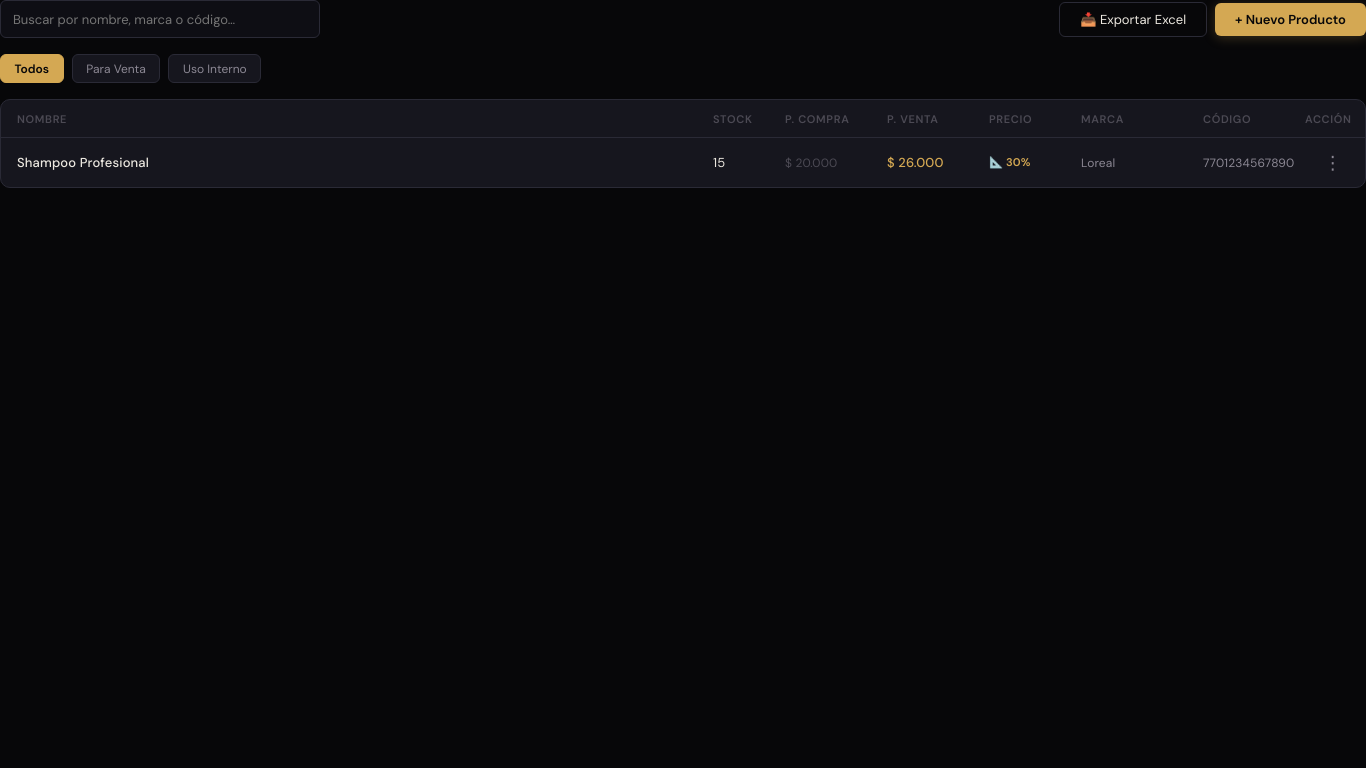
Test: ProductosPage — listado y operaciones › historial: abre el modal y consulta el endpoint de historial de precios
Expected: the text "Shampoo Profesional" is shown, top-left (17, 154), bottom-right (149, 171)
Click the button named "Acciones": (1333, 163) top-left (1316, 150), bottom-right (1349, 175)
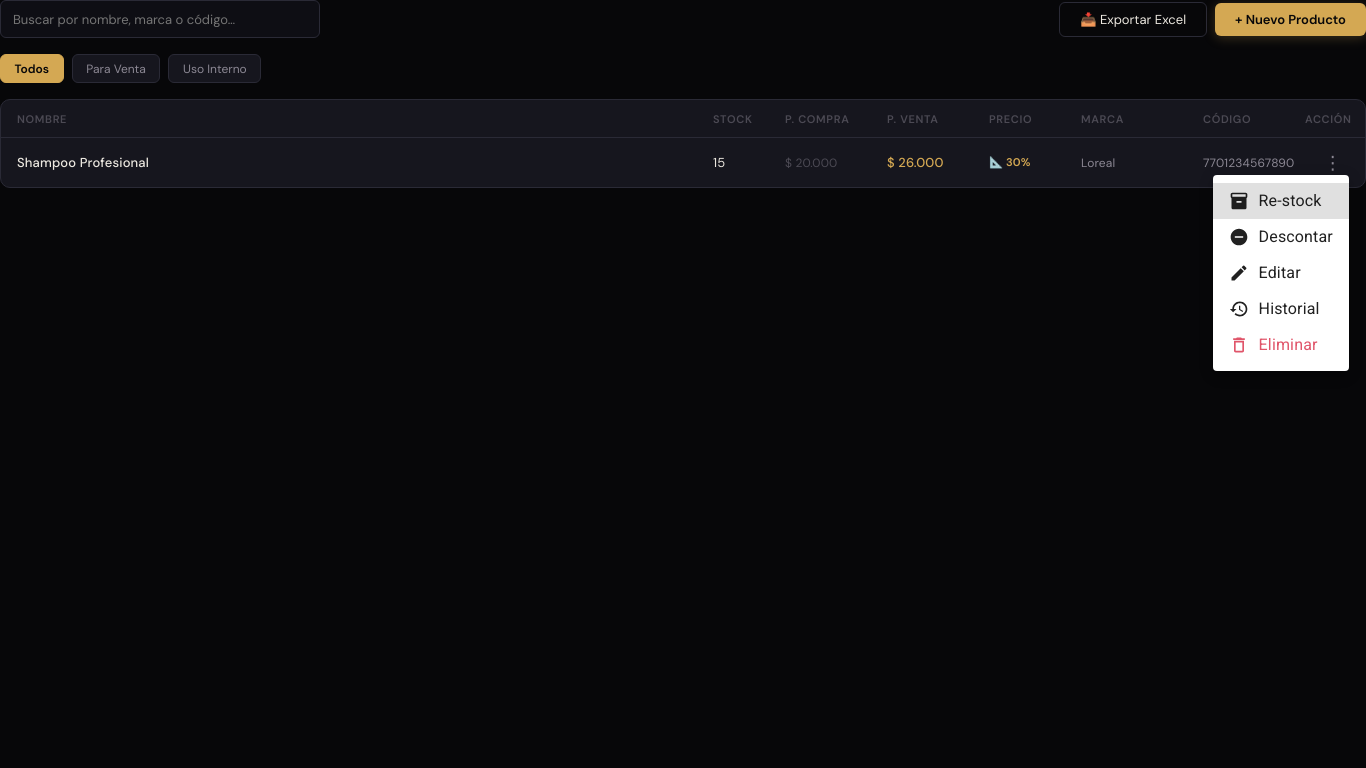
Click the menu item "Historial": (1274, 309) top-left (1229, 299), bottom-right (1320, 319)
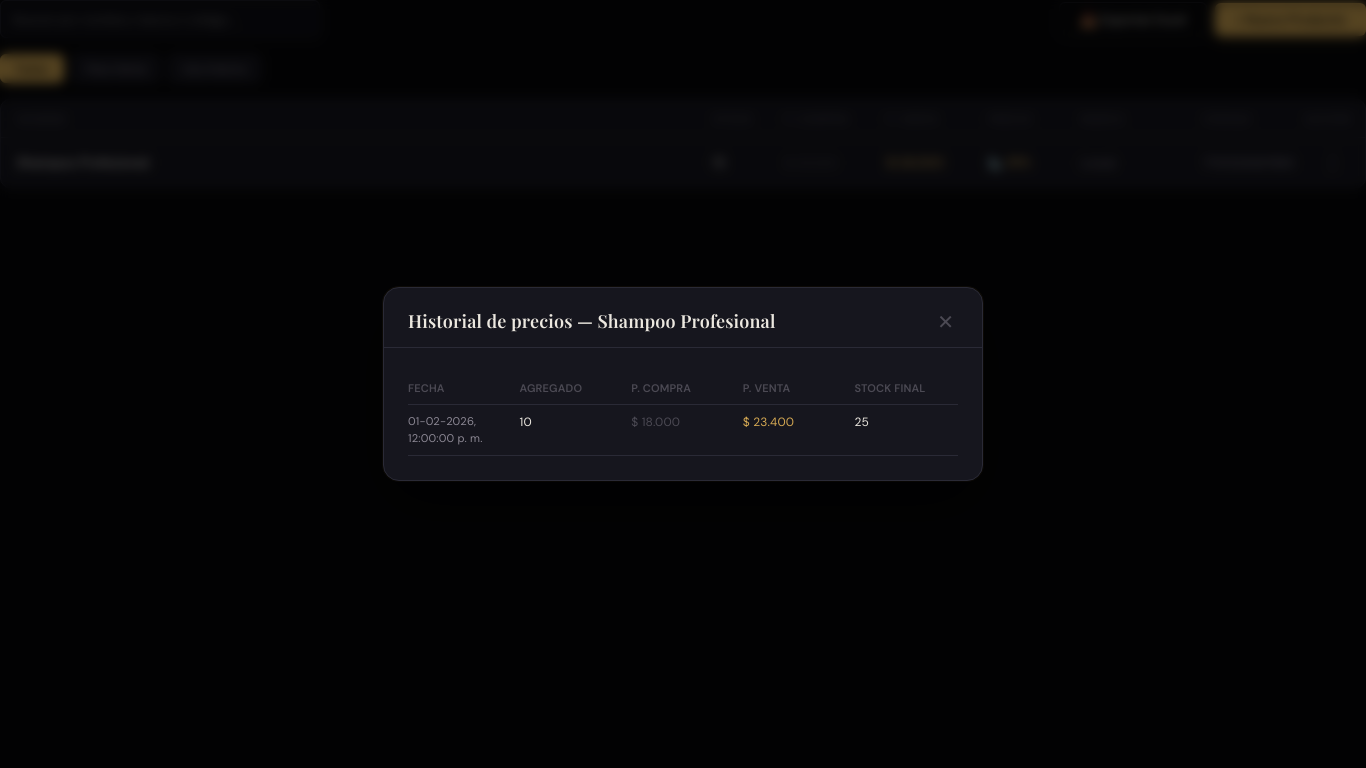
Now the text "Historial de precios — Shampoo Profesional" is shown, box top-left (408, 308), bottom-right (776, 335)
Now the text "10" is shown, box top-left (520, 414), bottom-right (532, 430)
Now the text "$ 23.400" is shown, box top-left (743, 414), bottom-right (794, 430)
